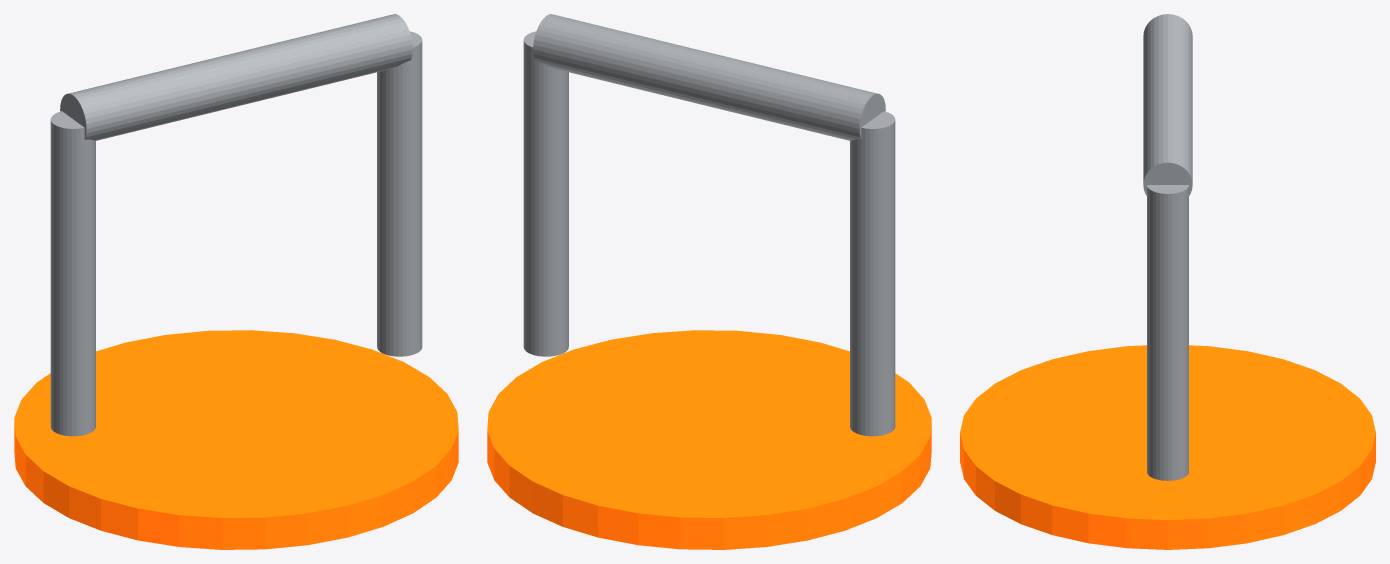
The model's file is fitness_parallel_bars.dae.
3 views of the same model, side by side, from view 1: azimuth 30°, elevation 25°; view 2: azimuth 150°, elevation 25°; view 3: azimuth 270°, elevation 25° (orthographic). The views are drawn at different scales.
Visible parts, largest first — view 1: 02_15_Popular_Fitness_Parallel_Bars_ROOT_base, 02_15_Popular_Fitness_Parallel_Bars_part_03, 02_15_Popular_Fitness_Parallel_Bars_part_01, 02_15_Popular_Fitness_Parallel_Bars_part_02; view 2: 02_15_Popular_Fitness_Parallel_Bars_ROOT_base, 02_15_Popular_Fitness_Parallel_Bars_part_03, 02_15_Popular_Fitness_Parallel_Bars_part_01, 02_15_Popular_Fitness_Parallel_Bars_part_02; view 3: 02_15_Popular_Fitness_Parallel_Bars_ROOT_base, 02_15_Popular_Fitness_Parallel_Bars_part_02, 02_15_Popular_Fitness_Parallel_Bars_part_03.
Part boxes in pixels (x1,y1,x2,y2): 02_15_Popular_Fitness_Parallel_Bars_ROOT_base: (14, 330, 458, 549); 02_15_Popular_Fitness_Parallel_Bars_part_03: (60, 14, 412, 140); 02_15_Popular_Fitness_Parallel_Bars_part_01: (50, 111, 95, 436); 02_15_Popular_Fitness_Parallel_Bars_part_02: (377, 31, 422, 356); 02_15_Popular_Fitness_Parallel_Bars_ROOT_base: (487, 330, 931, 549); 02_15_Popular_Fitness_Parallel_Bars_part_03: (533, 14, 885, 140); 02_15_Popular_Fitness_Parallel_Bars_part_01: (850, 111, 895, 436); 02_15_Popular_Fitness_Parallel_Bars_part_02: (523, 31, 568, 356); 02_15_Popular_Fitness_Parallel_Bars_ROOT_base: (960, 345, 1375, 549); 02_15_Popular_Fitness_Parallel_Bars_part_02: (1147, 185, 1188, 480); 02_15_Popular_Fitness_Parallel_Bars_part_03: (1143, 14, 1192, 195).
Size of the model in its own units: 0.76 by 0.7536 by 0.76.
